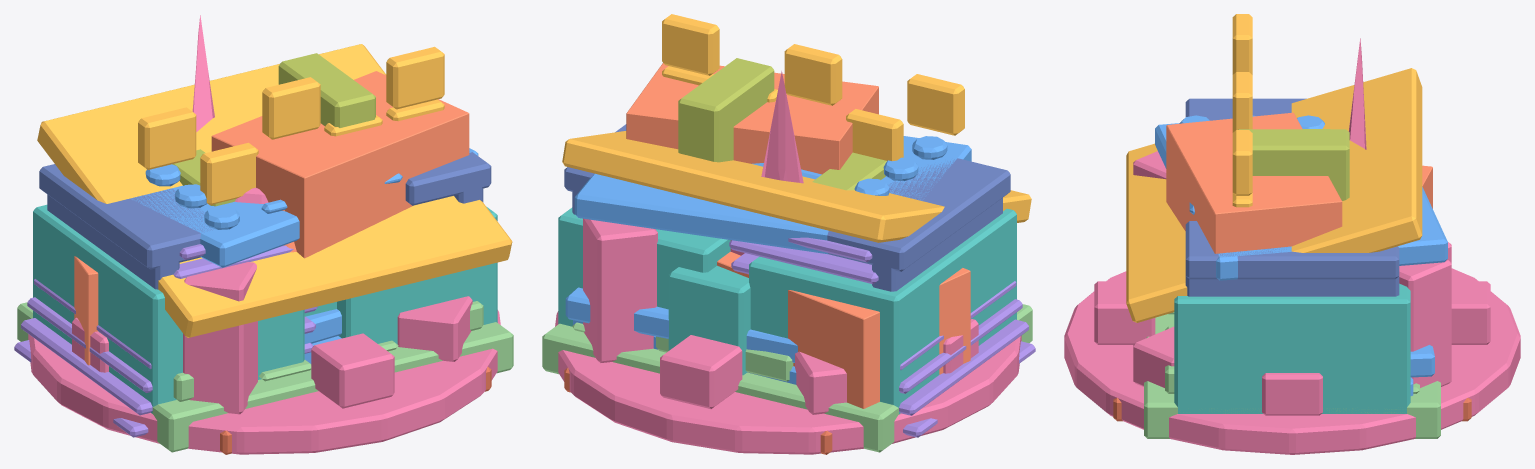
The picture shows the model from 3 angles, left to right: view 1: azimuth 30°, elevation 25°; view 2: azimuth 150°, elevation 25°; view 3: azimuth 270°, elevation 25°; orthographic projection. The views are drawn at different scales.
Parts seen in each view (by area): view 1: AIObject_06, AIObject_07, AIObject_02, AIObject_04, AIObject_05, AIObject_00, AIObject_01, AIObject_03, AIObject_08; view 2: AIObject_07, AIObject_06, AIObject_04, AIObject_02, AIObject_00, AIObject_05, AIObject_03, AIObject_08, AIObject_01; view 3: AIObject_07, AIObject_06, AIObject_04, AIObject_02, AIObject_05, AIObject_08, AIObject_00, AIObject_01.
Boxes of the visible parts, bbox=[...] form: AIObject_06: bbox=[37, 44, 512, 337]; AIObject_07: bbox=[28, 15, 500, 454]; AIObject_02: bbox=[74, 71, 469, 365]; AIObject_04: bbox=[33, 204, 497, 413]; AIObject_05: bbox=[39, 152, 491, 289]; AIObject_00: bbox=[131, 148, 478, 363]; AIObject_01: bbox=[17, 301, 513, 452]; AIObject_03: bbox=[14, 244, 317, 437]; AIObject_08: bbox=[172, 53, 375, 206]; AIObject_07: bbox=[555, 71, 1021, 454]; AIObject_06: bbox=[562, 14, 1031, 242]; AIObject_04: bbox=[558, 207, 1016, 414]; AIObject_02: bbox=[626, 63, 970, 408]; AIObject_00: bbox=[565, 136, 971, 384]; AIObject_05: bbox=[564, 124, 1010, 291]; AIObject_03: bbox=[729, 237, 1035, 437]; AIObject_08: bbox=[678, 58, 886, 190]; AIObject_01: bbox=[542, 304, 1032, 452]; AIObject_07: bbox=[1064, 38, 1520, 454]; AIObject_06: bbox=[1126, 14, 1422, 322]; AIObject_04: bbox=[1174, 283, 1410, 413]; AIObject_02: bbox=[1166, 112, 1432, 253]; AIObject_05: bbox=[1185, 98, 1399, 296]; AIObject_08: bbox=[1238, 129, 1349, 200]; AIObject_00: bbox=[1155, 115, 1447, 395]; AIObject_01: bbox=[1144, 312, 1440, 438].
Size of the model in its own units: 0.5027 by 0.3781 by 0.5027.
